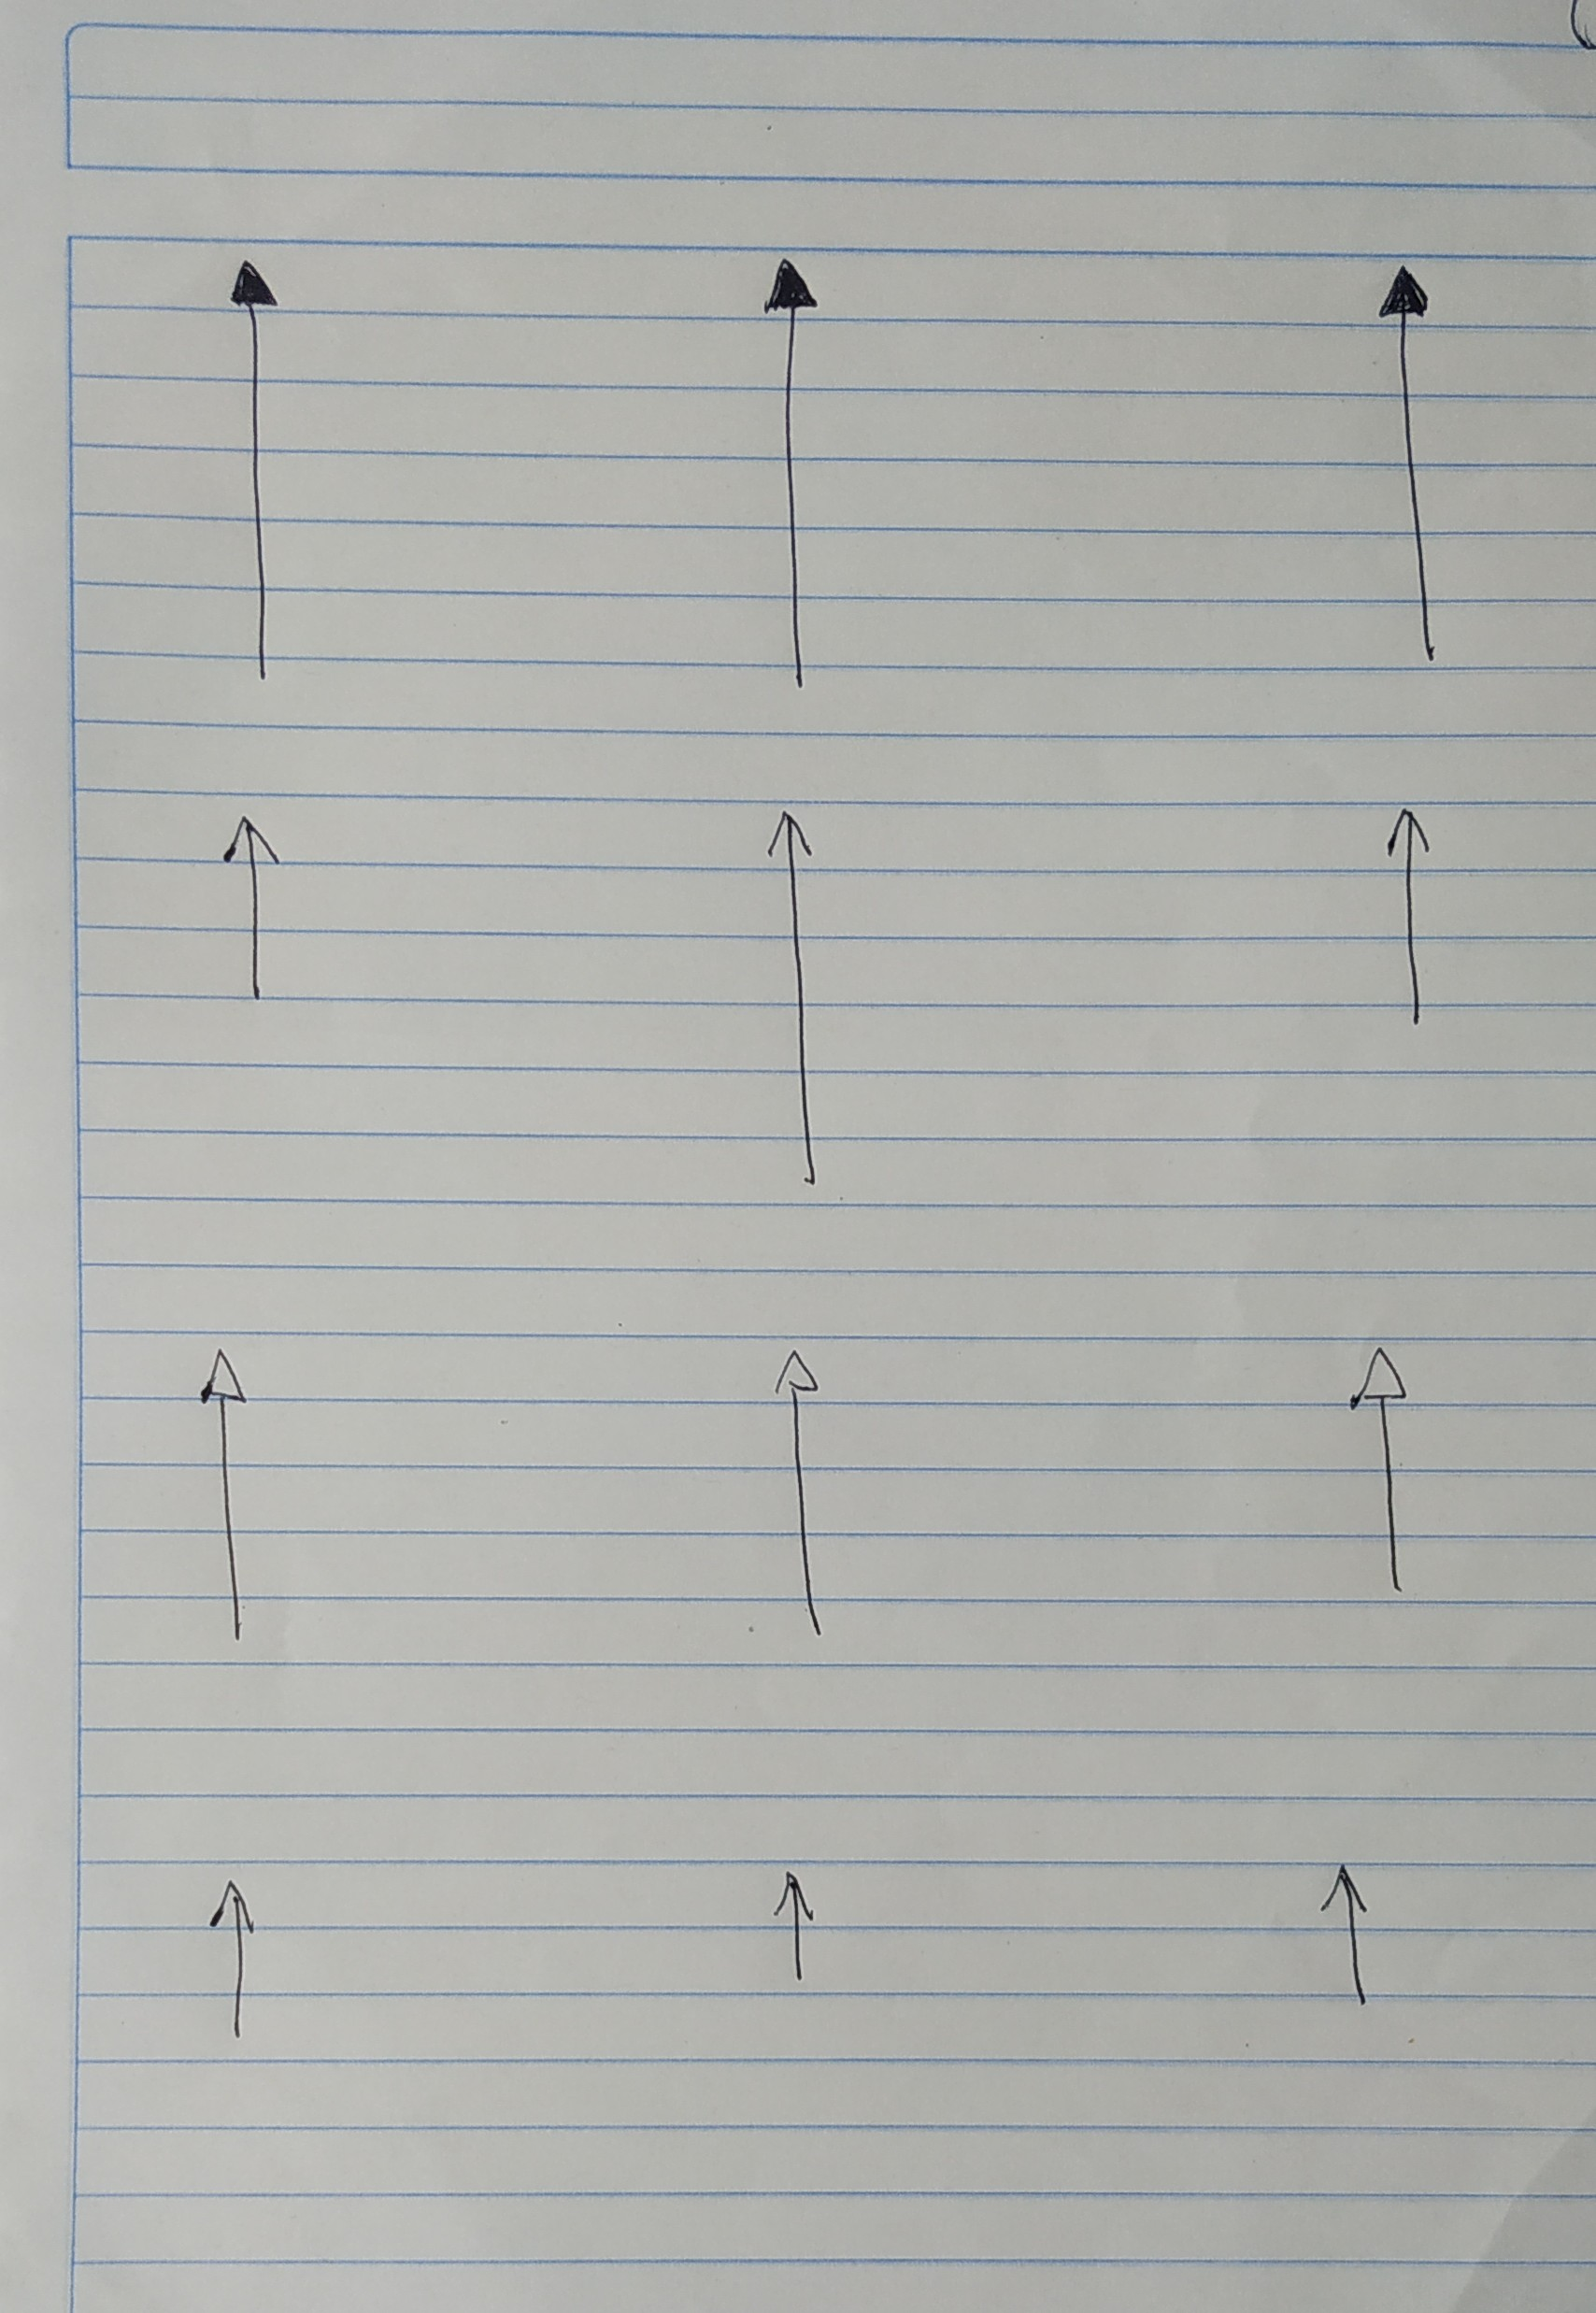arrow_line_up: (1376, 260, 1452, 670), (759, 255, 819, 698), (761, 807, 826, 1193), (225, 255, 281, 687), (773, 1345, 833, 1645), (1348, 1345, 1417, 1599), (200, 1346, 257, 1650), (1376, 798, 1433, 1037), (214, 812, 279, 1009), (1318, 1860, 1382, 2012), (204, 1881, 257, 2051), (770, 1865, 819, 2002)
